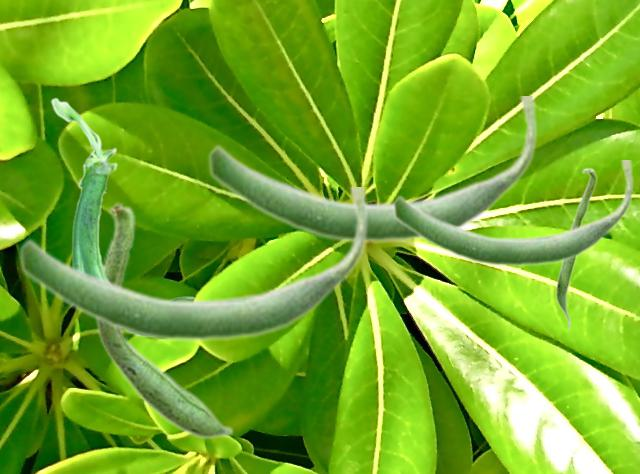french_bean: (18, 187, 368, 343), (207, 96, 537, 244), (50, 97, 195, 336), (94, 200, 233, 439), (392, 160, 633, 267), (555, 167, 596, 330)
